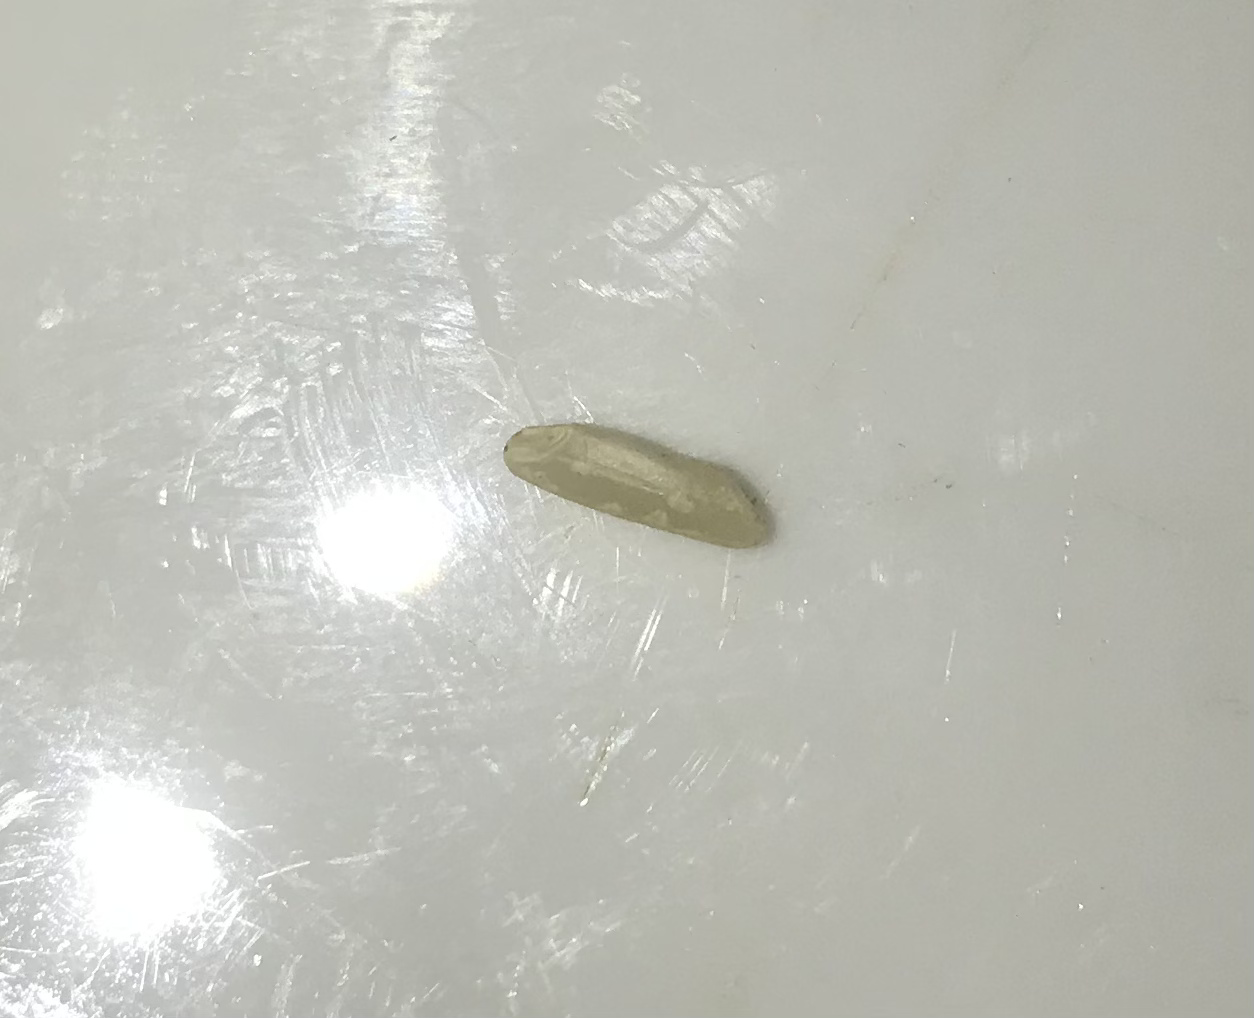Gao Lut Trang: (512, 424, 783, 553)
